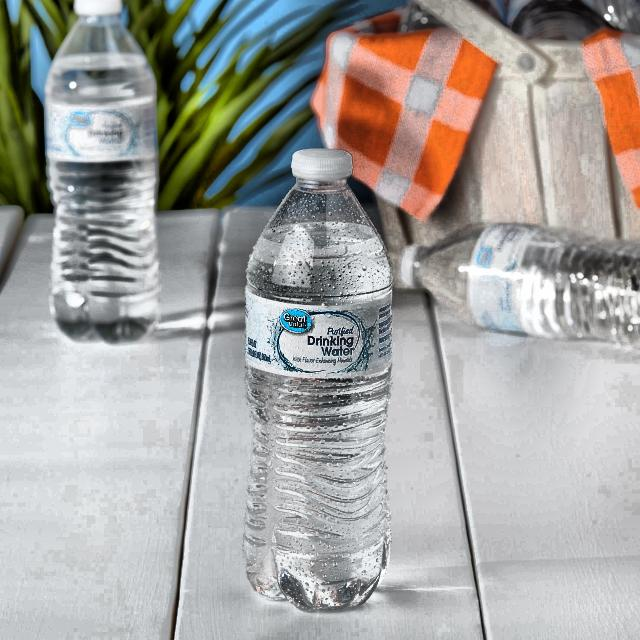Bottles: (226, 144, 410, 620)
